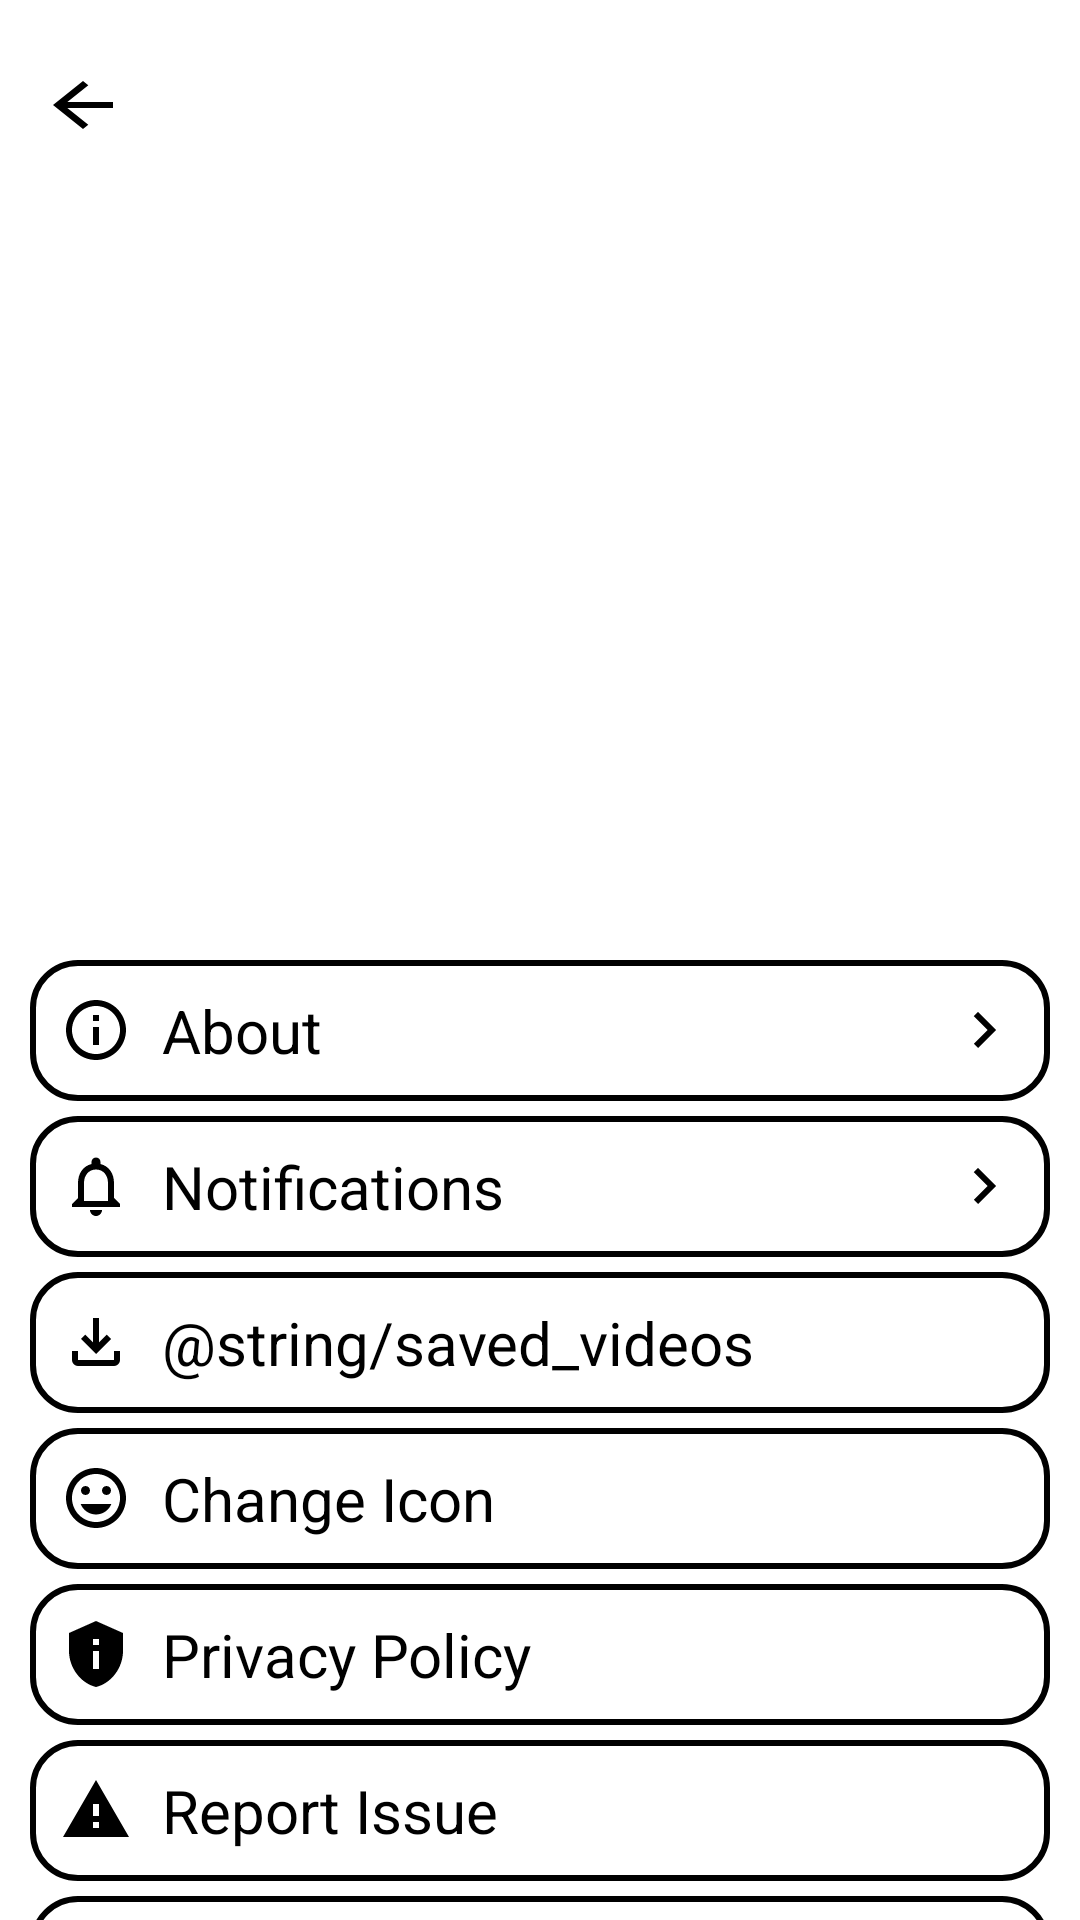

Screen size 1080 x 1920. Icon name, then its box in pixels as (x1,y1,x2,y2):
back: (53,81,113,129)
